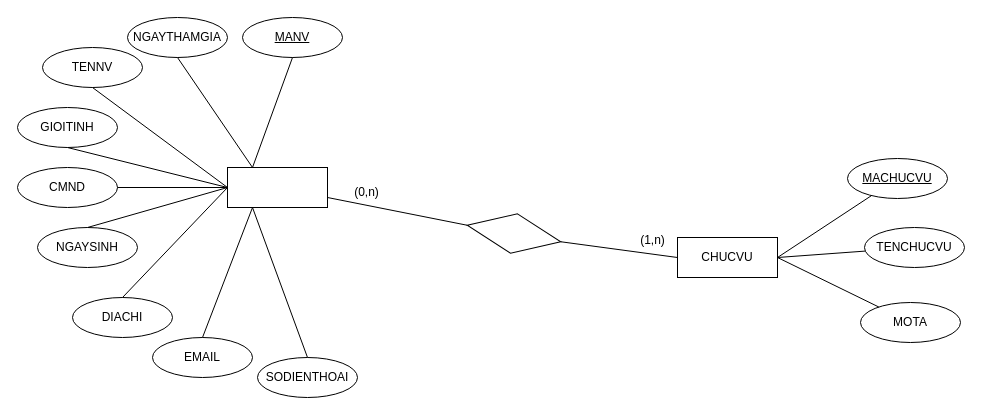
This 982x415 diagram has some shape labels left out. The centre of each missing label's shape, as x and y in pixels:
"CÓ" goes at [513,233].
"NHANVIEN" goes at [277,187].
